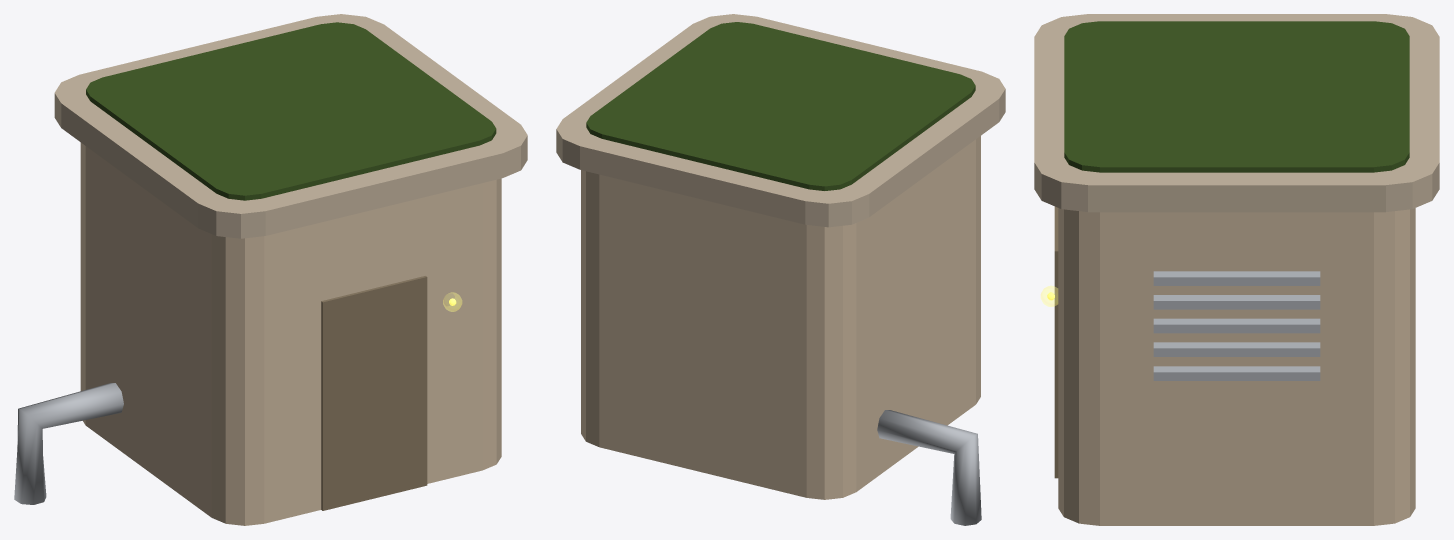
The model's file is city_pump_house.glb.
3 renders of one model, left to right at view 1: azimuth 30°, elevation 25°; view 2: azimuth 150°, elevation 25°; view 3: azimuth 270°, elevation 25°, orthographic. The views are drawn at different scales.
Parts seen in each view (by area): view 1: CityPumpHouse_Body, CityPumpHouse_RoofSoil, CityPumpHouse_Roof, CityPumpHouse_Door, CityPumpHouse_Pipe; view 2: CityPumpHouse_Body, CityPumpHouse_RoofSoil, CityPumpHouse_Roof, CityPumpHouse_Pipe; view 3: CityPumpHouse_Body, CityPumpHouse_RoofSoil, CityPumpHouse_Roof, CityPumpHouse_Louvre2, CityPumpHouse_Louvre0, CityPumpHouse_Louvre1, CityPumpHouse_Louvre3, CityPumpHouse_Louvre4, CityPumpHouse_Door.
Boxes of the visible parts, x1,y1,x2,y2 form: CityPumpHouse_Body: (80, 142, 501, 525); CityPumpHouse_RoofSoil: (86, 22, 496, 200); CityPumpHouse_Roof: (54, 14, 527, 238); CityPumpHouse_Door: (321, 276, 427, 510); CityPumpHouse_Pipe: (14, 383, 123, 504); CityPumpHouse_Body: (581, 136, 980, 499); CityPumpHouse_RoofSoil: (586, 22, 975, 190); CityPumpHouse_Roof: (556, 14, 1005, 227); CityPumpHouse_Pipe: (877, 410, 981, 525); CityPumpHouse_Body: (1058, 208, 1415, 525); CityPumpHouse_RoofSoil: (1064, 21, 1409, 172); CityPumpHouse_Roof: (1034, 14, 1439, 212); CityPumpHouse_Louvre2: (1153, 318, 1320, 333); CityPumpHouse_Louvre0: (1153, 366, 1320, 380); CityPumpHouse_Louvre1: (1153, 342, 1320, 356); CityPumpHouse_Louvre3: (1153, 295, 1320, 309); CityPumpHouse_Louvre4: (1153, 271, 1320, 285); CityPumpHouse_Door: (1054, 206, 1058, 478).
Size of the model in its own units: 4.24 by 3.6 by 3.4.
